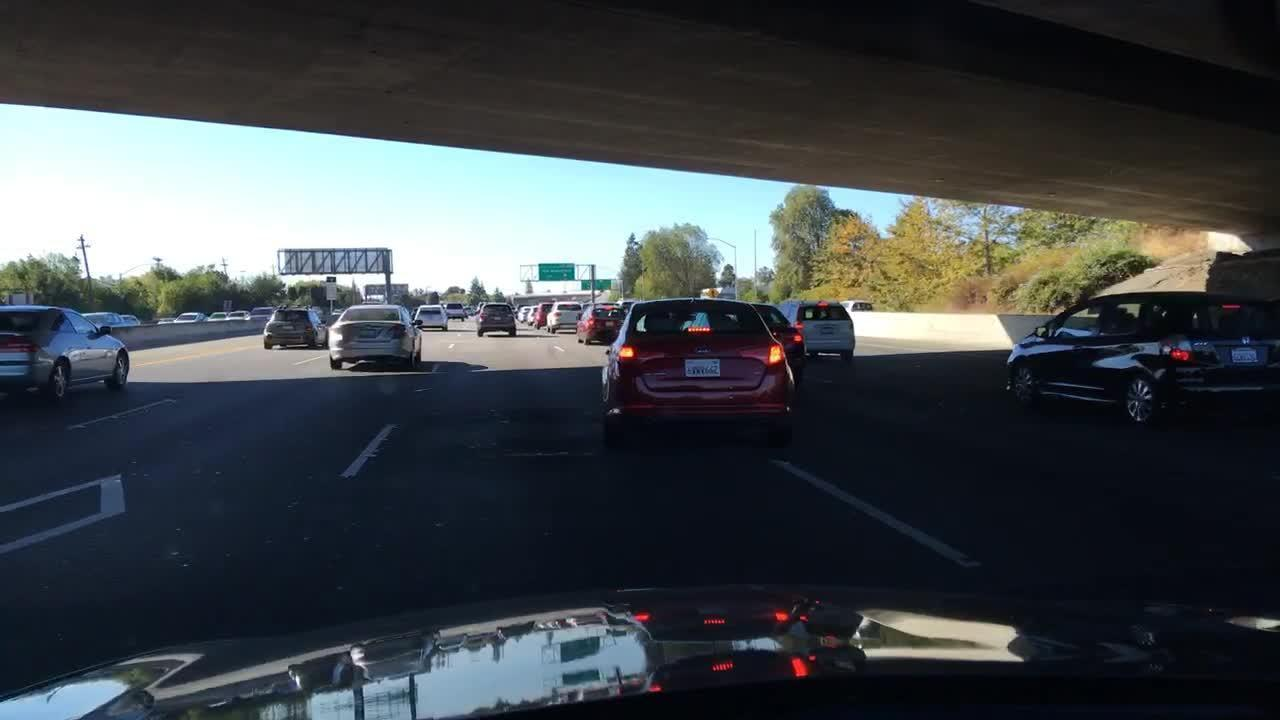Honda: (1241, 336, 1256, 349)
kia: (689, 342, 719, 356)
